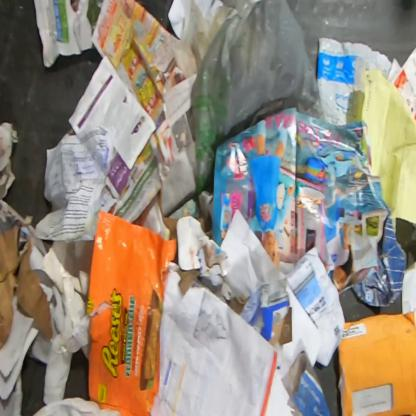cardboard: (86, 208, 177, 416), (336, 308, 415, 415), (0, 222, 54, 352), (162, 214, 228, 297), (350, 218, 408, 310), (42, 240, 94, 328), (224, 290, 292, 350), (279, 350, 333, 415)
soft_plastic: (190, 0, 325, 199), (317, 37, 393, 127)
